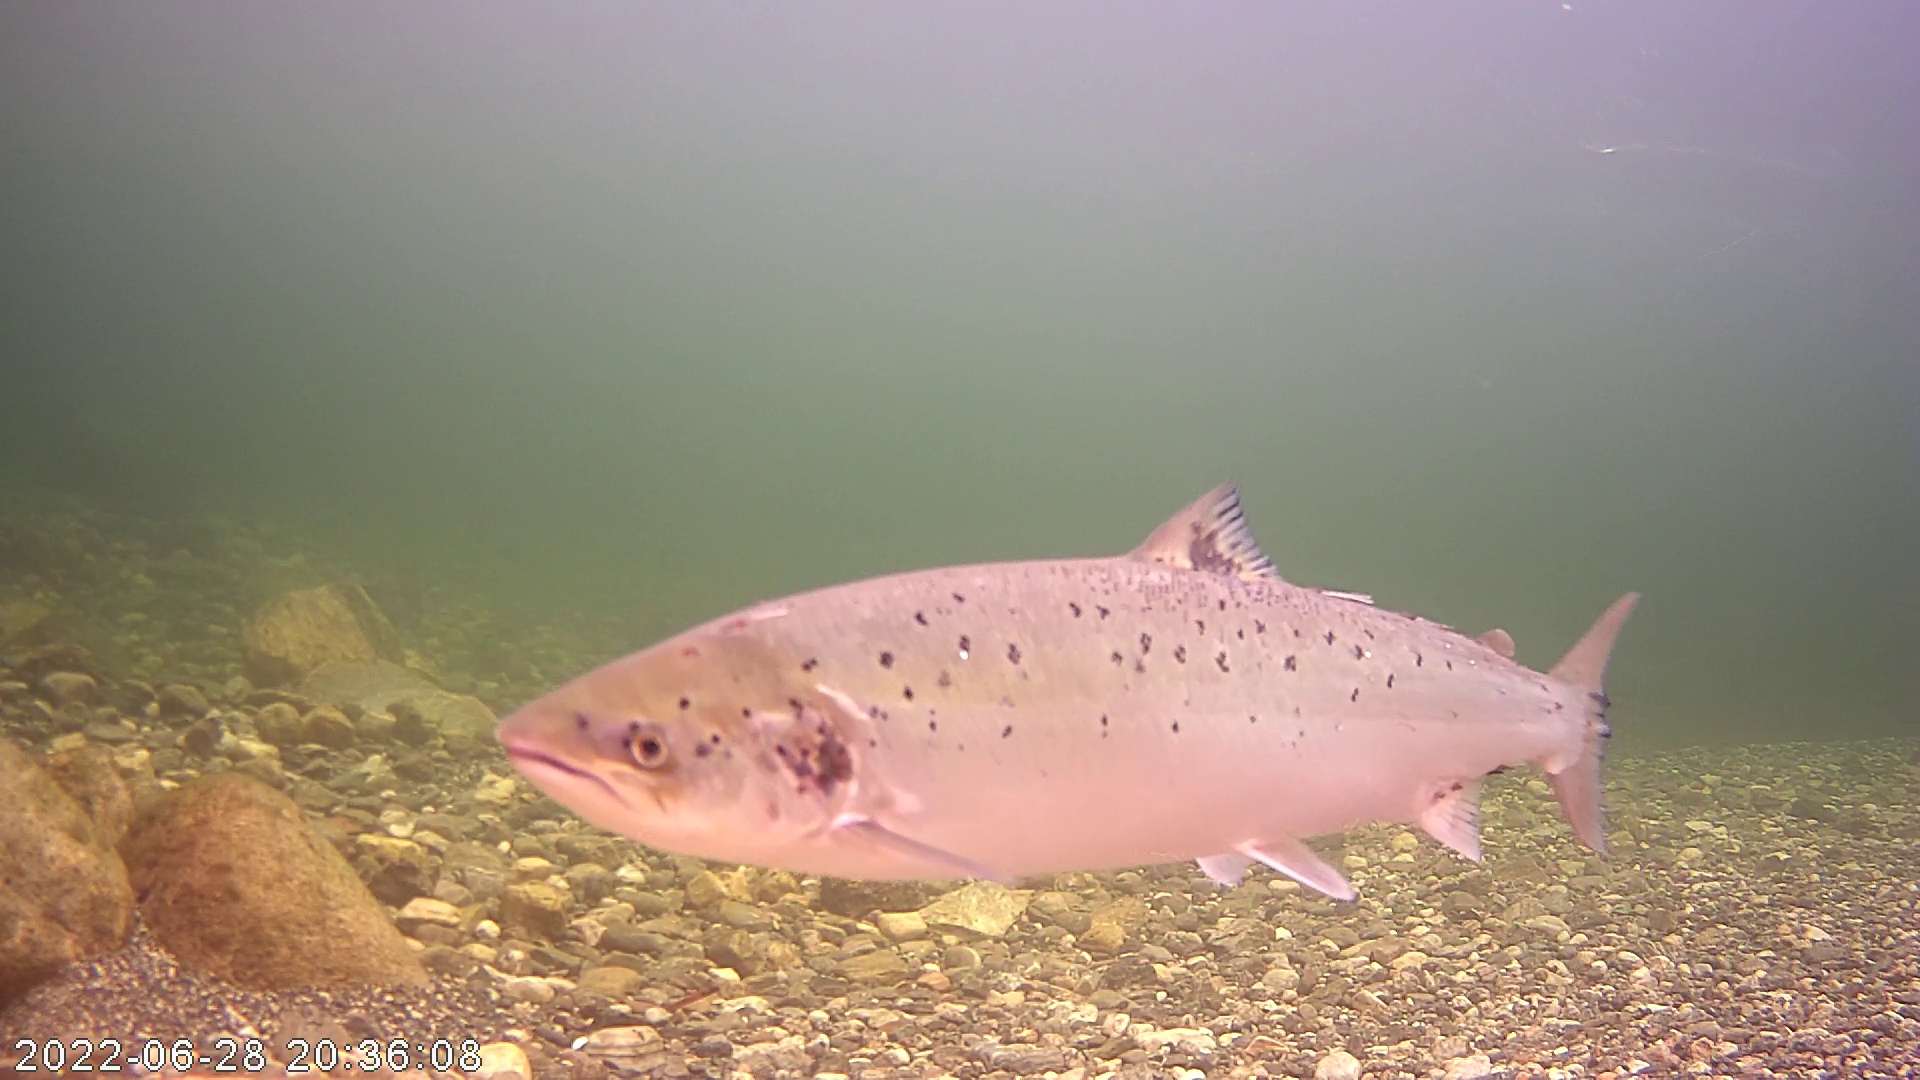salmon: (483, 468, 1647, 905)
